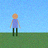person: (10, 13, 20, 36)
